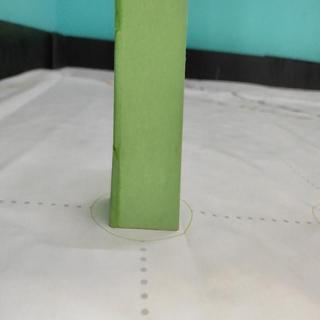greenbox: (112, 0, 187, 231)
